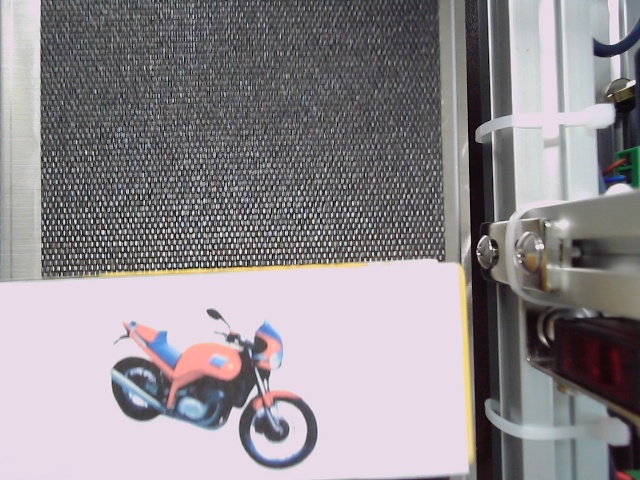motorcycle: (105, 306, 321, 470)
